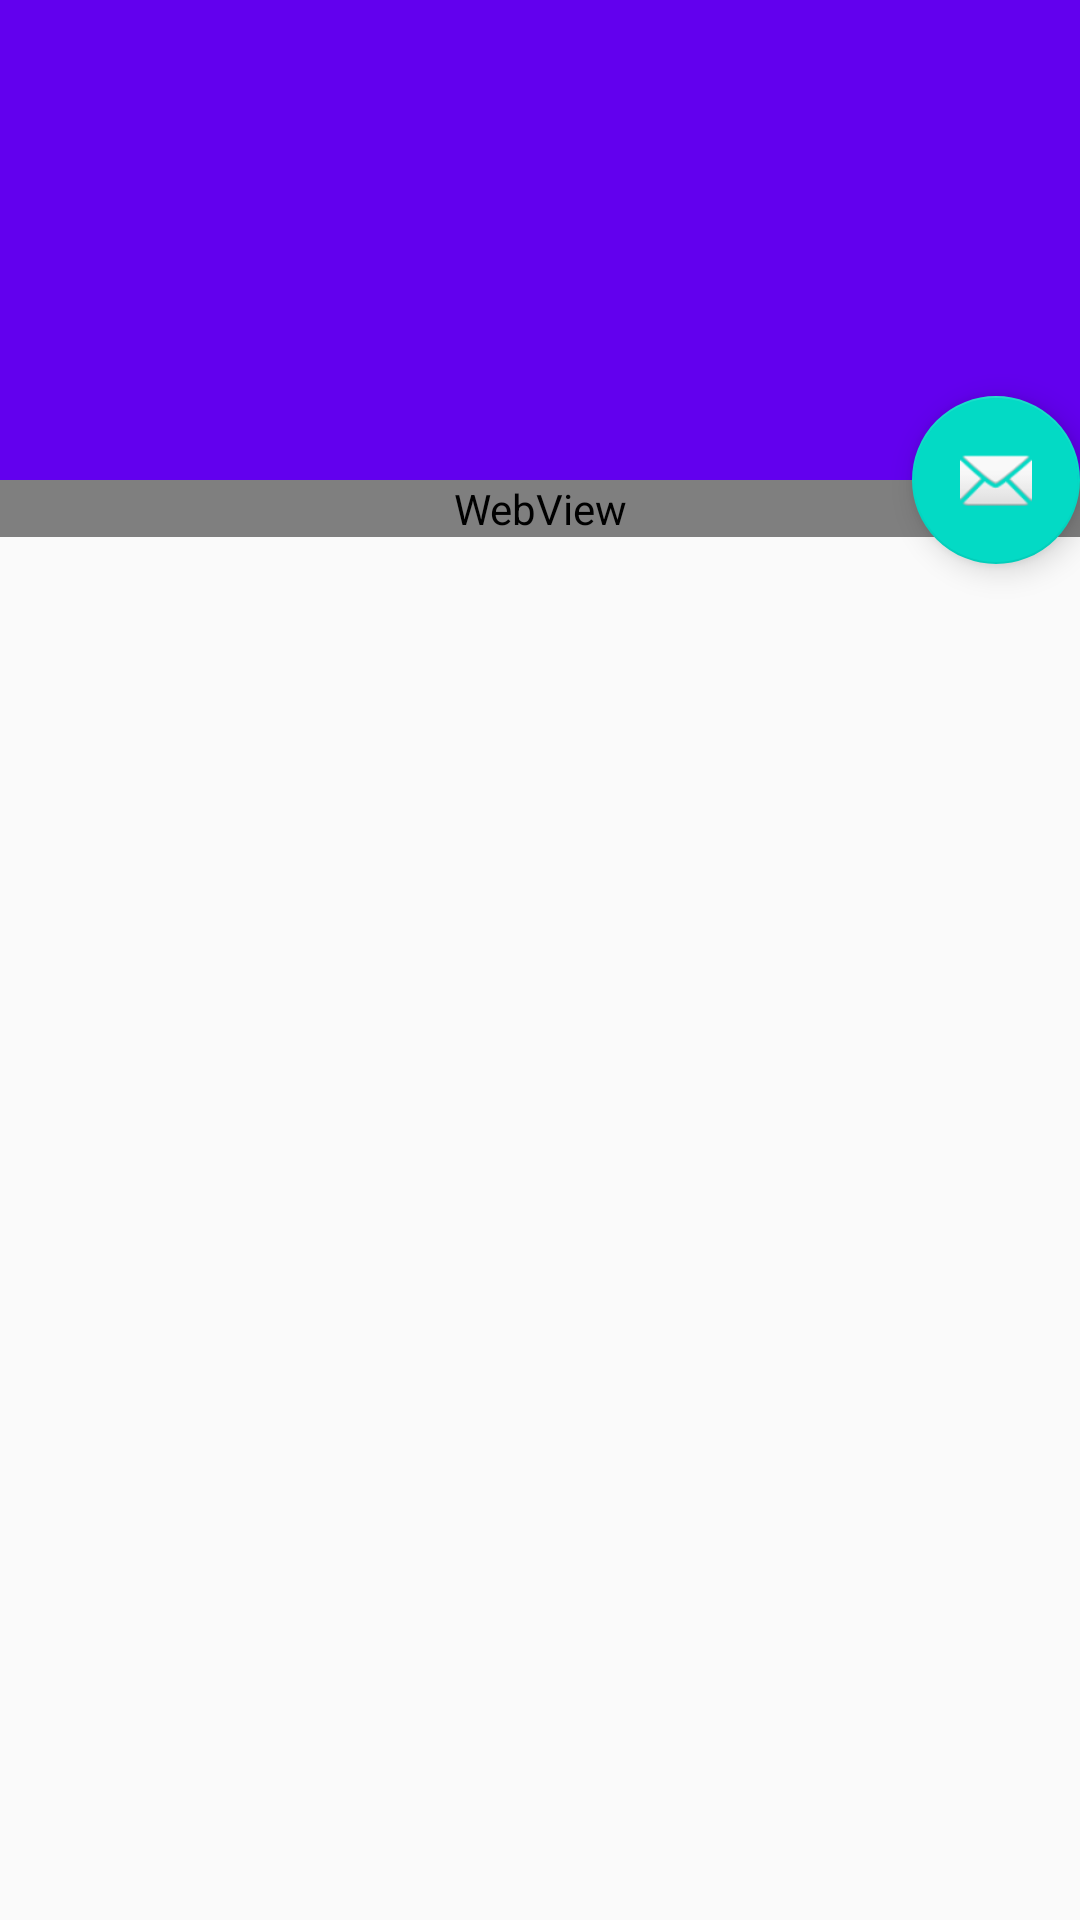

Screen size 1080 x 1920. Icon name, then its center in pixels as [x,y]:
email: [996,480]
